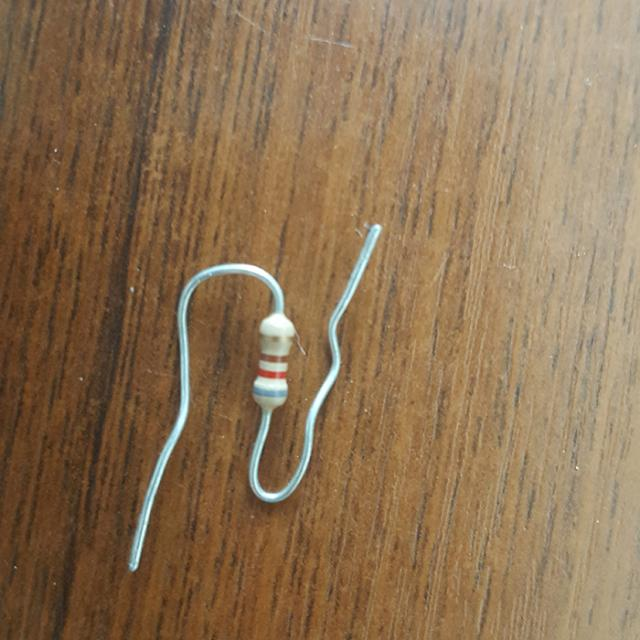brown: (261, 354, 288, 362)
gold: (261, 333, 293, 343)
grey: (254, 386, 284, 396)
red: (259, 370, 284, 378)
resistor: (247, 305, 299, 417)
